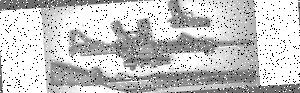handgun: (158, 0, 218, 31)
rifle: (55, 12, 257, 71)
shotgun: (45, 58, 260, 93)
